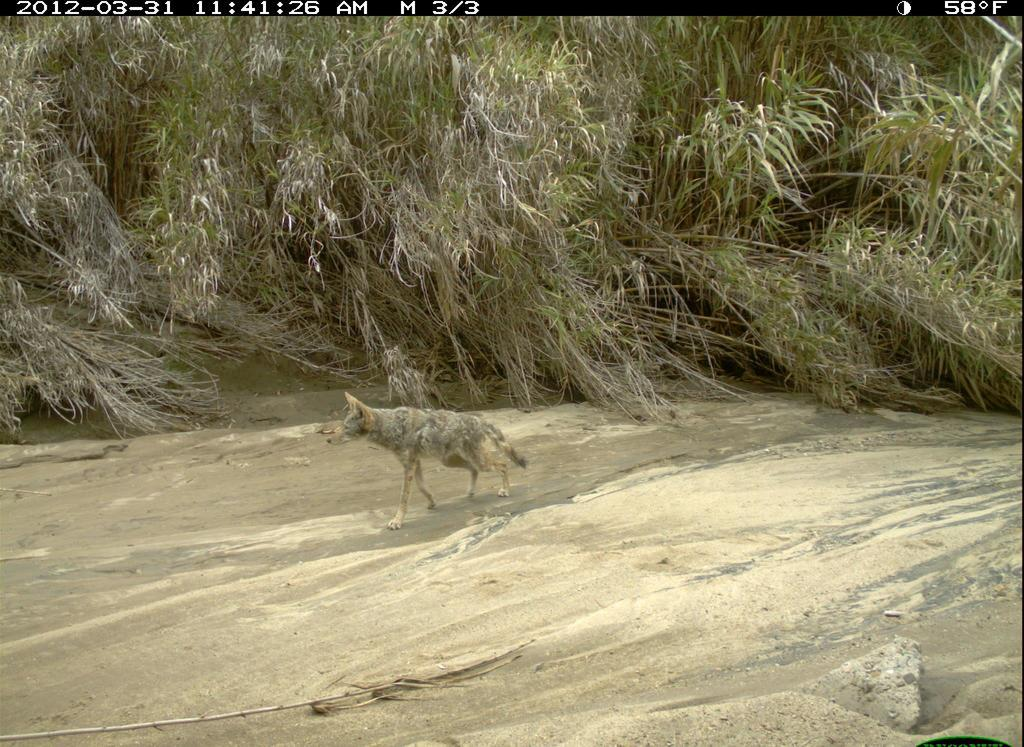coyote: (318, 383, 546, 536)
